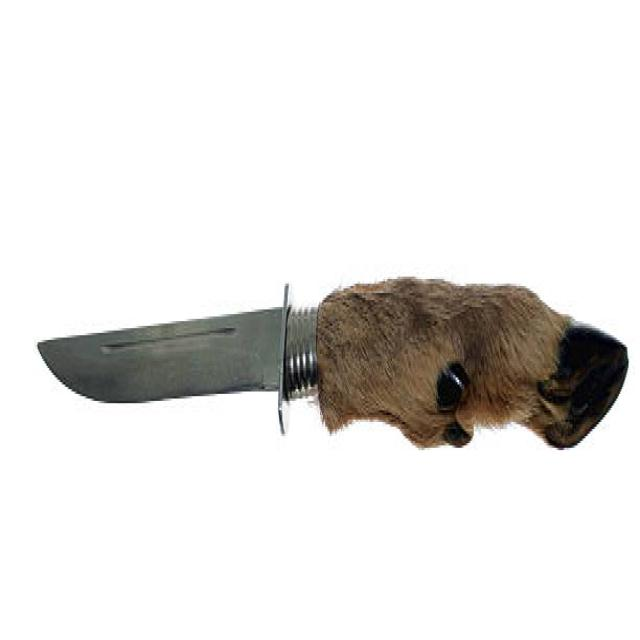knife: (36, 260, 633, 501)
